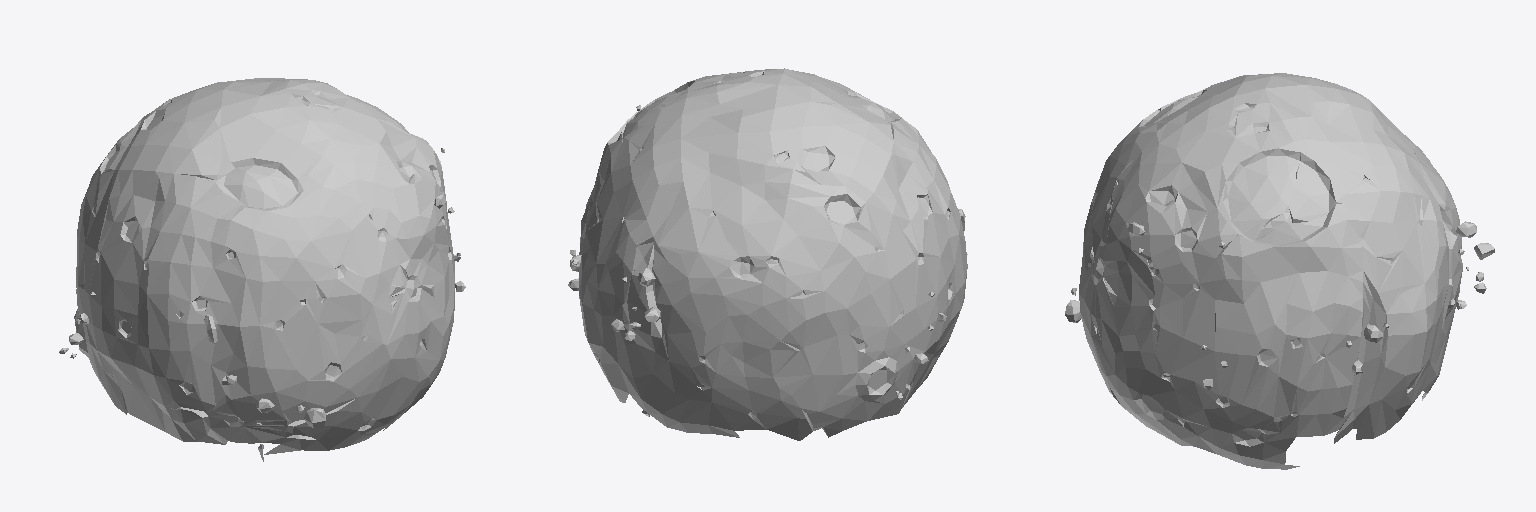
The model's file is Planet.obj.
The picture shows the model from 3 angles: view 1: azimuth 30°, elevation 25°; view 2: azimuth 150°, elevation 25°; view 3: azimuth 270°, elevation 25°; orthographic projection.
Visible parts, largest first — view 1: Planet_PlanetMesh; view 2: Planet_PlanetMesh; view 3: Planet_PlanetMesh.
Part boxes in pixels (left/top/right/bottom): Planet_PlanetMesh: left=59, top=78, right=465, bottom=461; Planet_PlanetMesh: left=568, top=68, right=967, bottom=440; Planet_PlanetMesh: left=1065, top=73, right=1494, bottom=469.
Bounding box in the file's own units: 1.98 × 1.79 × 2.1.